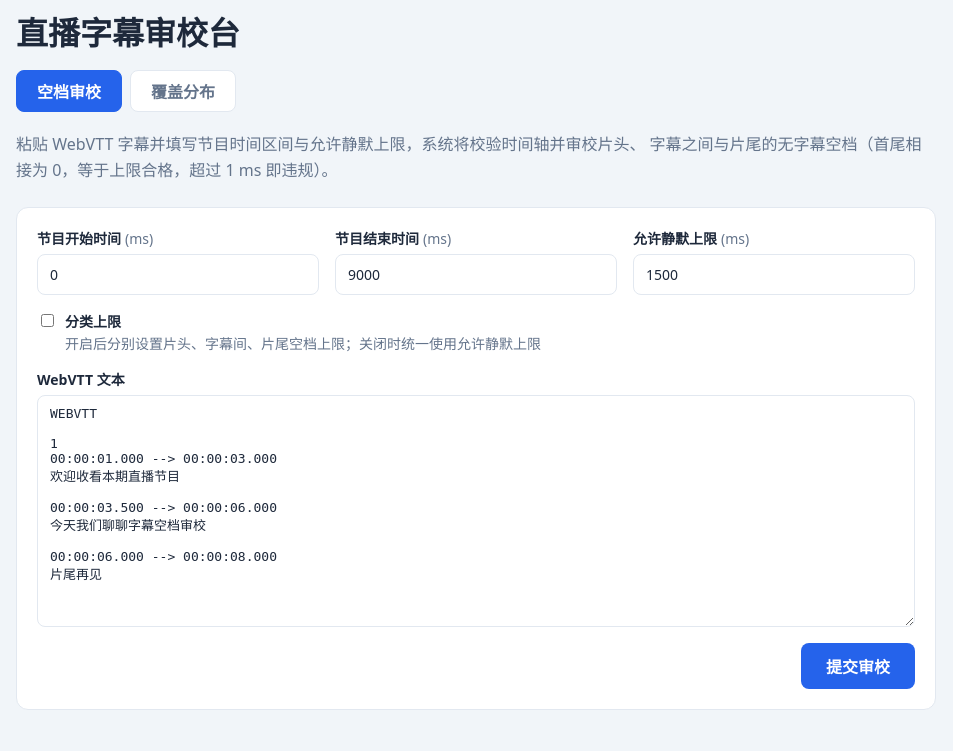
Scenario: App page states › blocks submission locally for non-integer or negative milliseconds
Step 1. Replace the text in the number field with test id "input-limit" with "1.5" → (774, 275), box [633,254,915,295]
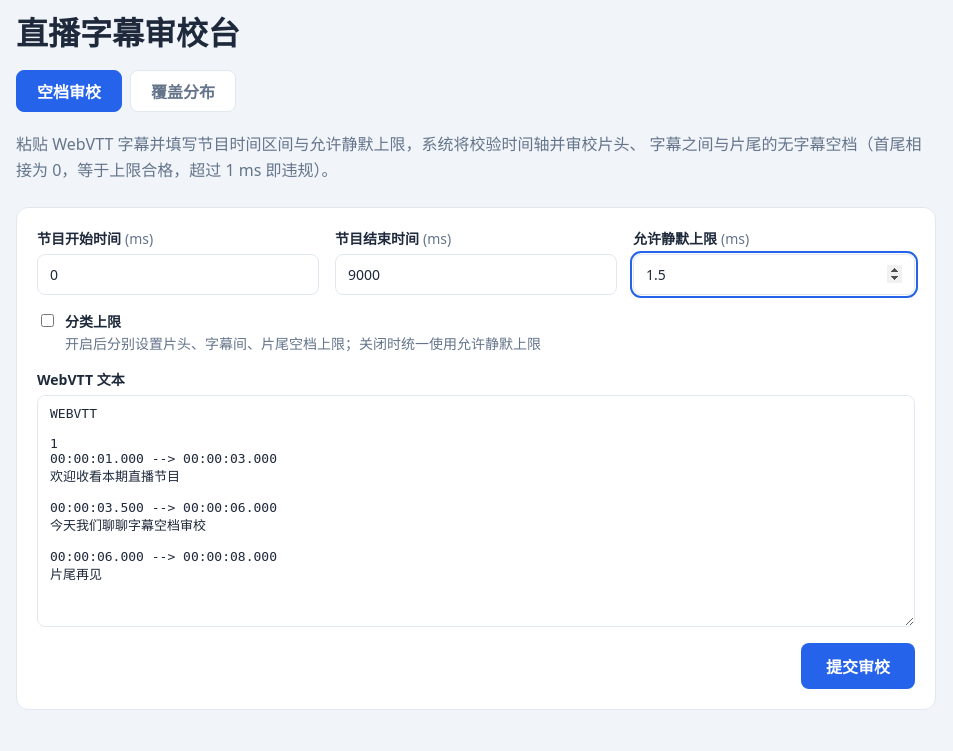
Step 2. Click the button with test id "submit" → (858, 666), box [801,643,915,689]
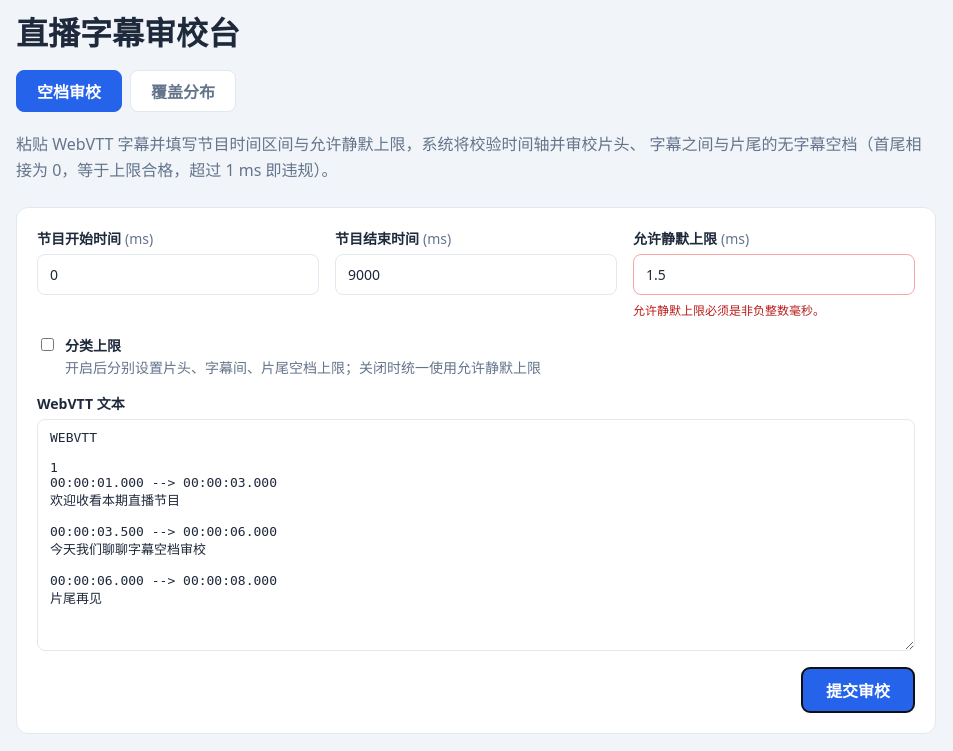
Result: the text with test id "input-limit-error" shows "非负整数" at [633,302,825,319]
